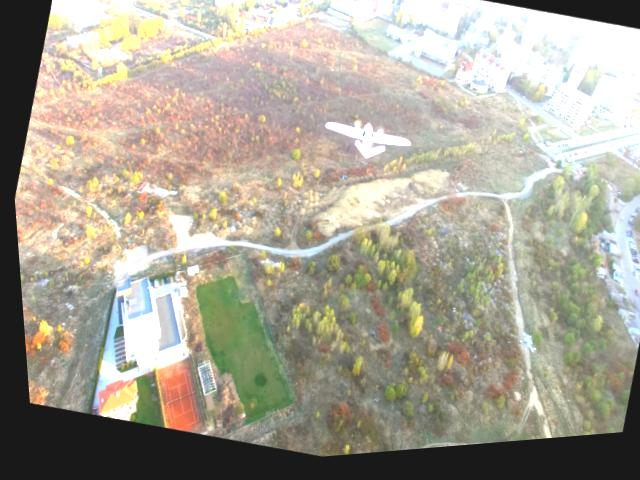plane: (316, 112, 414, 176)
